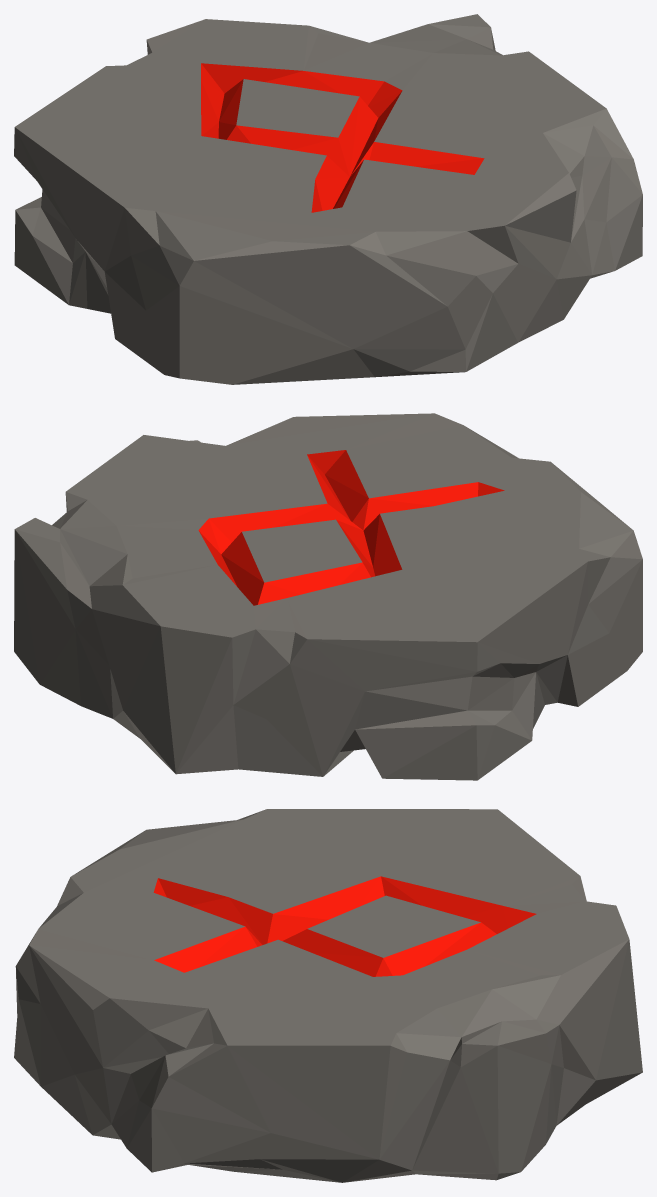
File: SM_Env_Rune_Rounded_03.fbx
3 renders of one model, top to bottom at view 1: azimuth 30°, elevation 25°; view 2: azimuth 150°, elevation 25°; view 3: azimuth 270°, elevation 25°, orthographic. The views are drawn at different scales.
Parts seen in each view (by area): view 1: SM_Env_Rune_Rounded_03; view 2: SM_Env_Rune_Rounded_03; view 3: SM_Env_Rune_Rounded_03.
Boxes of the visible parts, <box> form: SM_Env_Rune_Rounded_03: <box>14,14,642,384</box>; SM_Env_Rune_Rounded_03: <box>14,413,642,780</box>; SM_Env_Rune_Rounded_03: <box>14,809,642,1182</box>.
Size of the model in its own units: 0.9593 by 0.2738 by 1.08.
